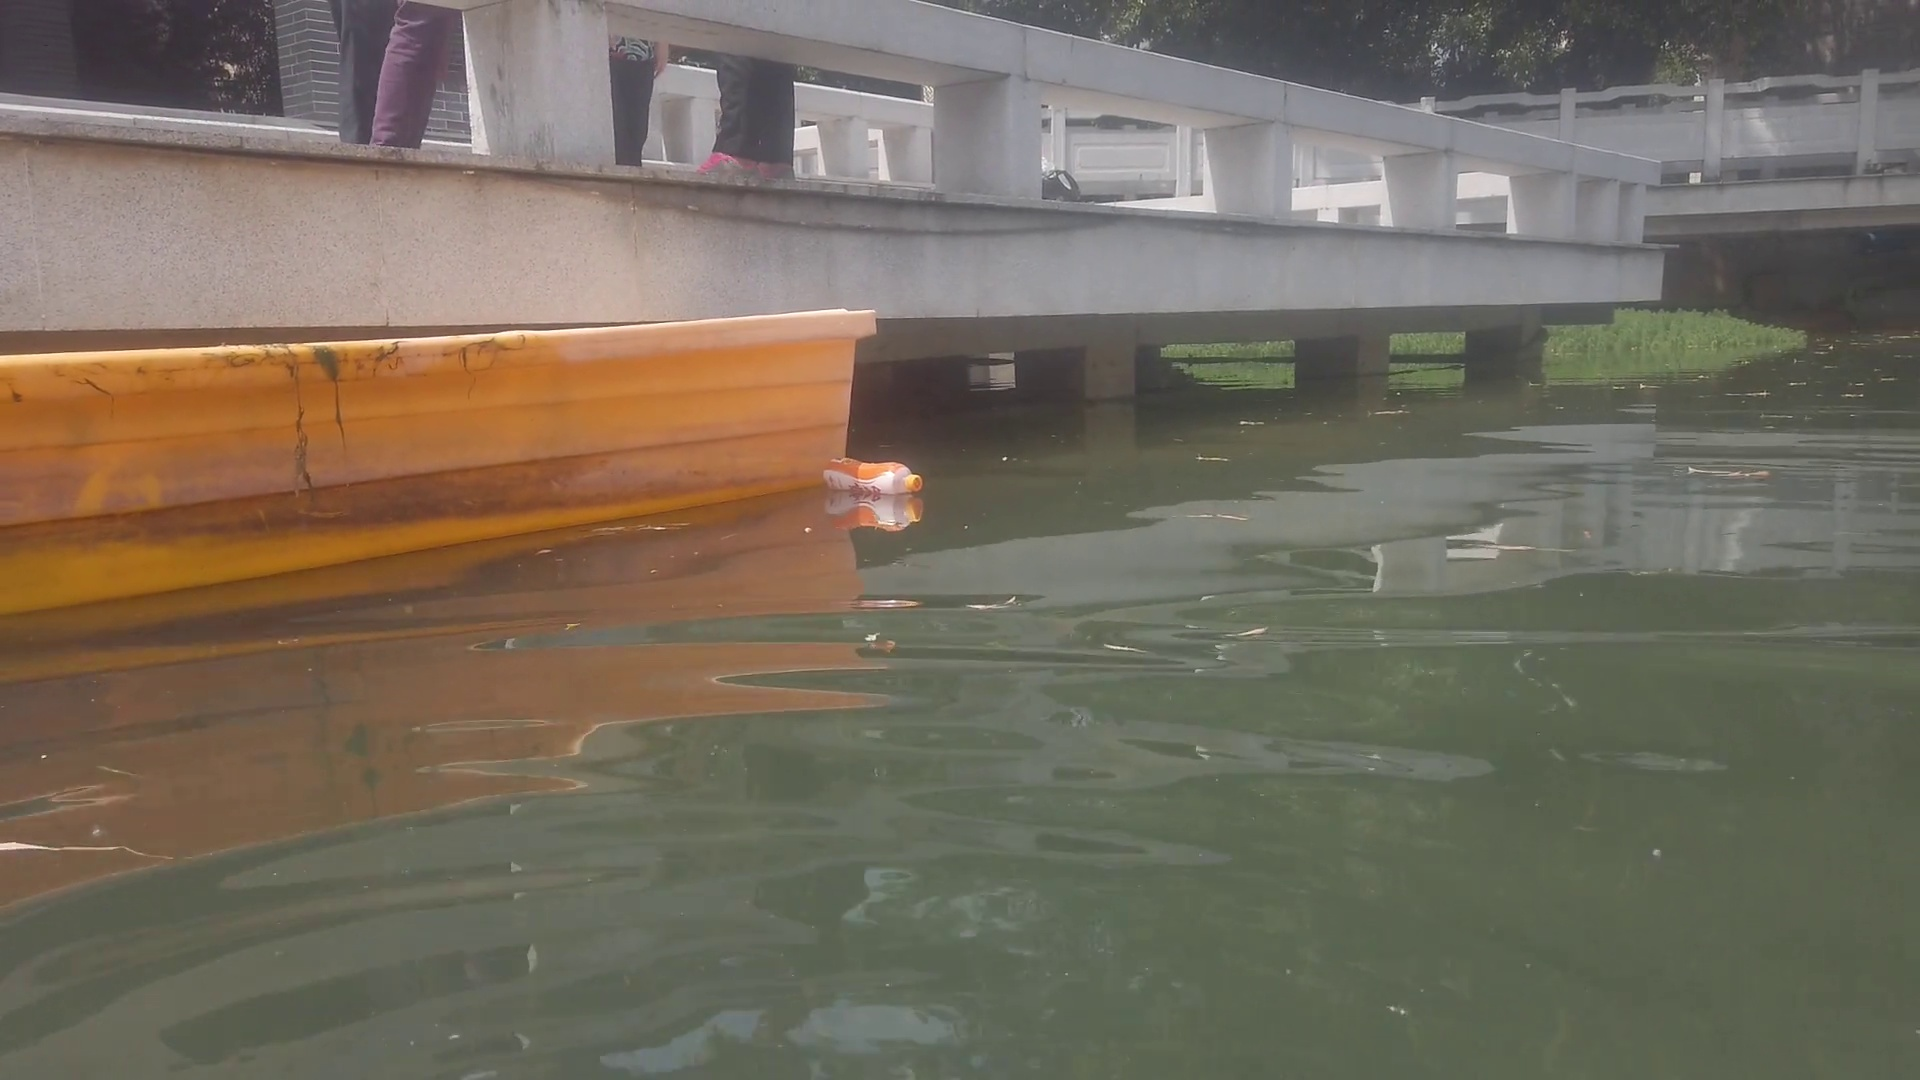bottle: (825, 454, 920, 497)
